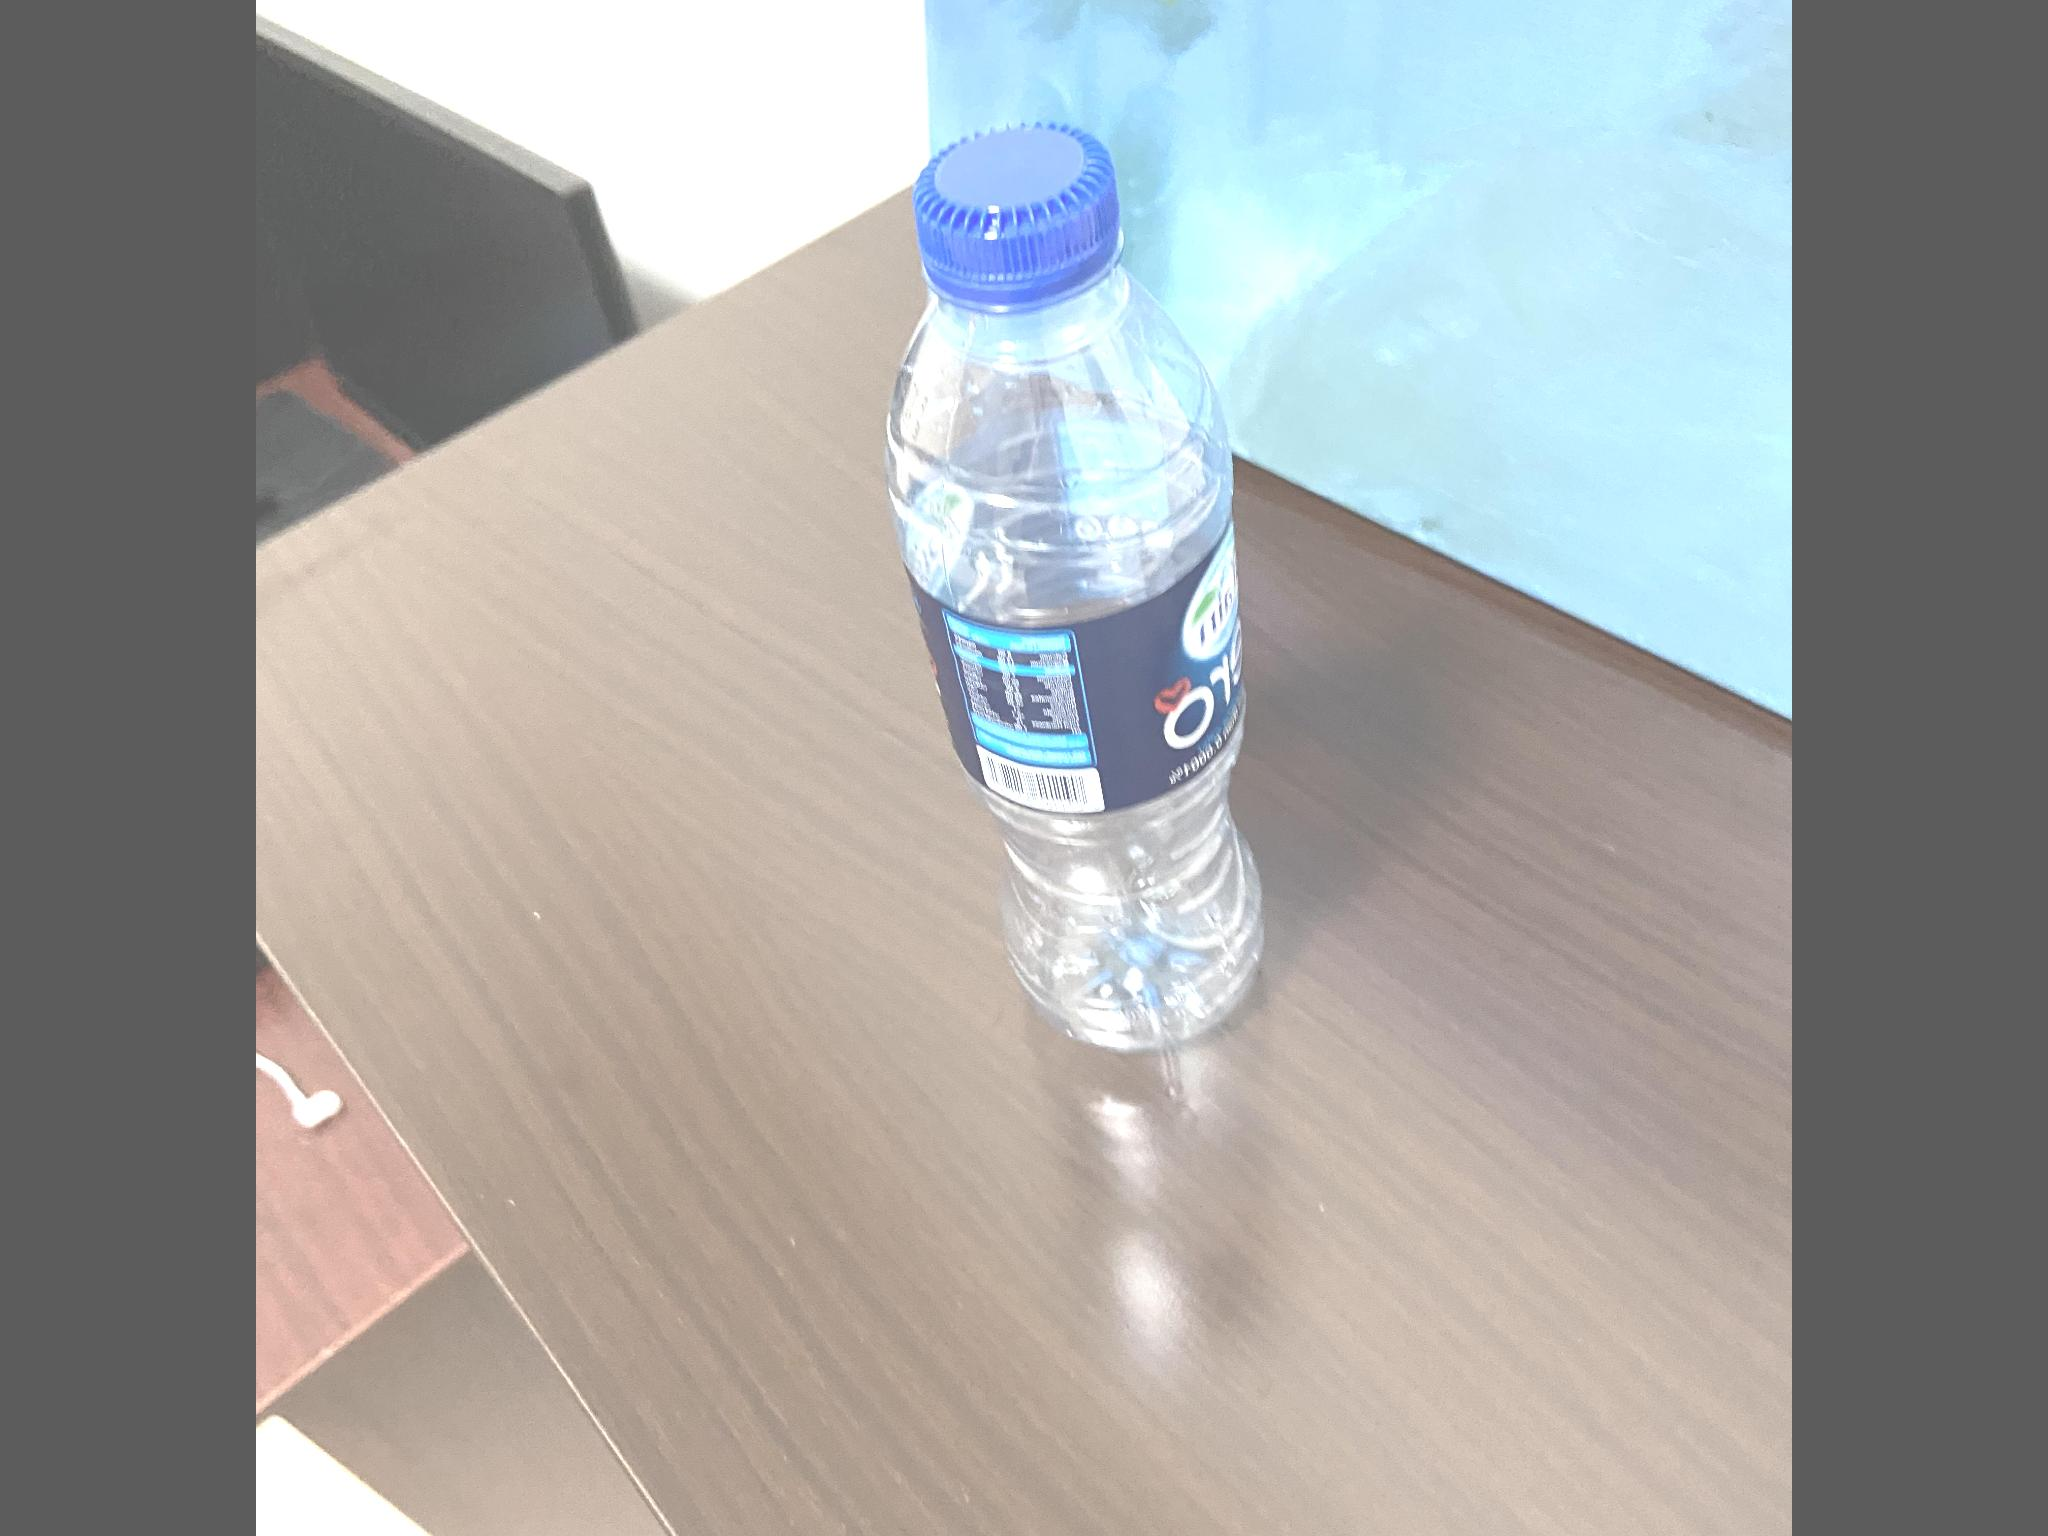bottle: (875, 120, 1253, 1082)
